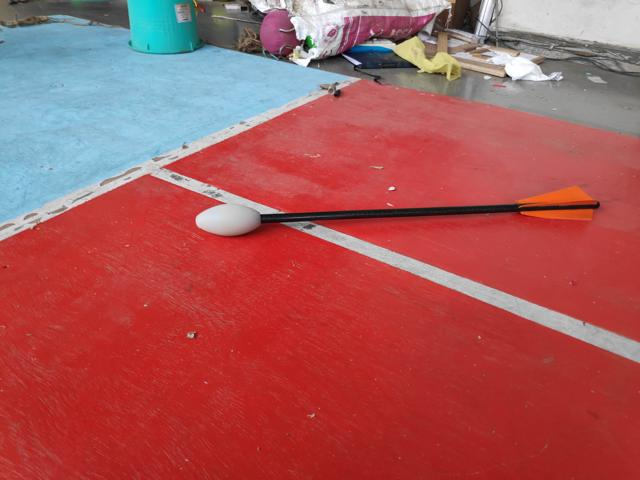Head: (191, 203, 265, 241)
Tail: (510, 182, 604, 226)
